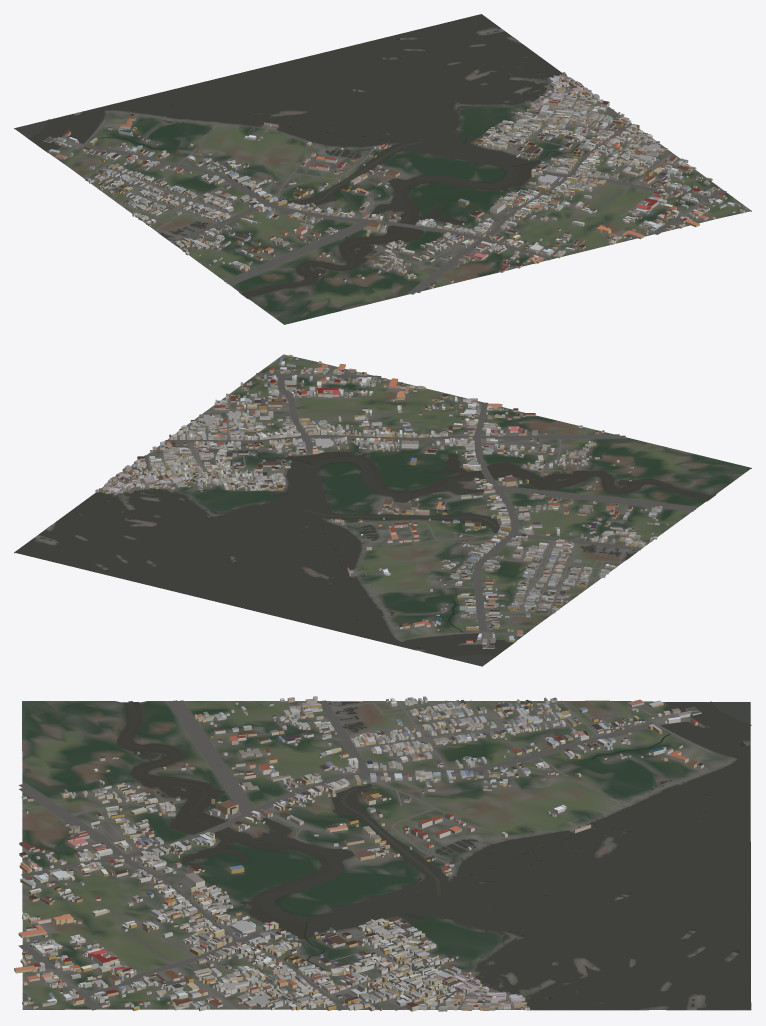
The picture shows the model from 3 angles, top to bottom: view 1: azimuth 30°, elevation 25°; view 2: azimuth 150°, elevation 25°; view 3: azimuth 270°, elevation 25°; orthographic projection. The views are drawn at different scales.
Parts seen in each view (by area): view 1: ground, water, buildings, roads; view 2: ground, water, buildings, roads; view 3: ground, water, buildings, roads.
Boxes of the visible parts, bbox=[...] form: ground: bbox=[14, 19, 751, 324]; water: bbox=[15, 14, 579, 297]; buildings: bbox=[43, 72, 746, 289]; roads: bbox=[49, 80, 726, 294]; ground: bbox=[14, 354, 751, 666]; water: bbox=[15, 448, 713, 665]; buildings: bbox=[95, 354, 668, 648]; roads: bbox=[101, 371, 697, 646]; ground: bbox=[22, 700, 751, 1010]; water: bbox=[117, 701, 751, 1009]; buildings: bbox=[14, 696, 703, 1011]; roads: bbox=[18, 700, 711, 1010].
Bounding box in the file's own units: 1415 × 21.93 × 1419.
